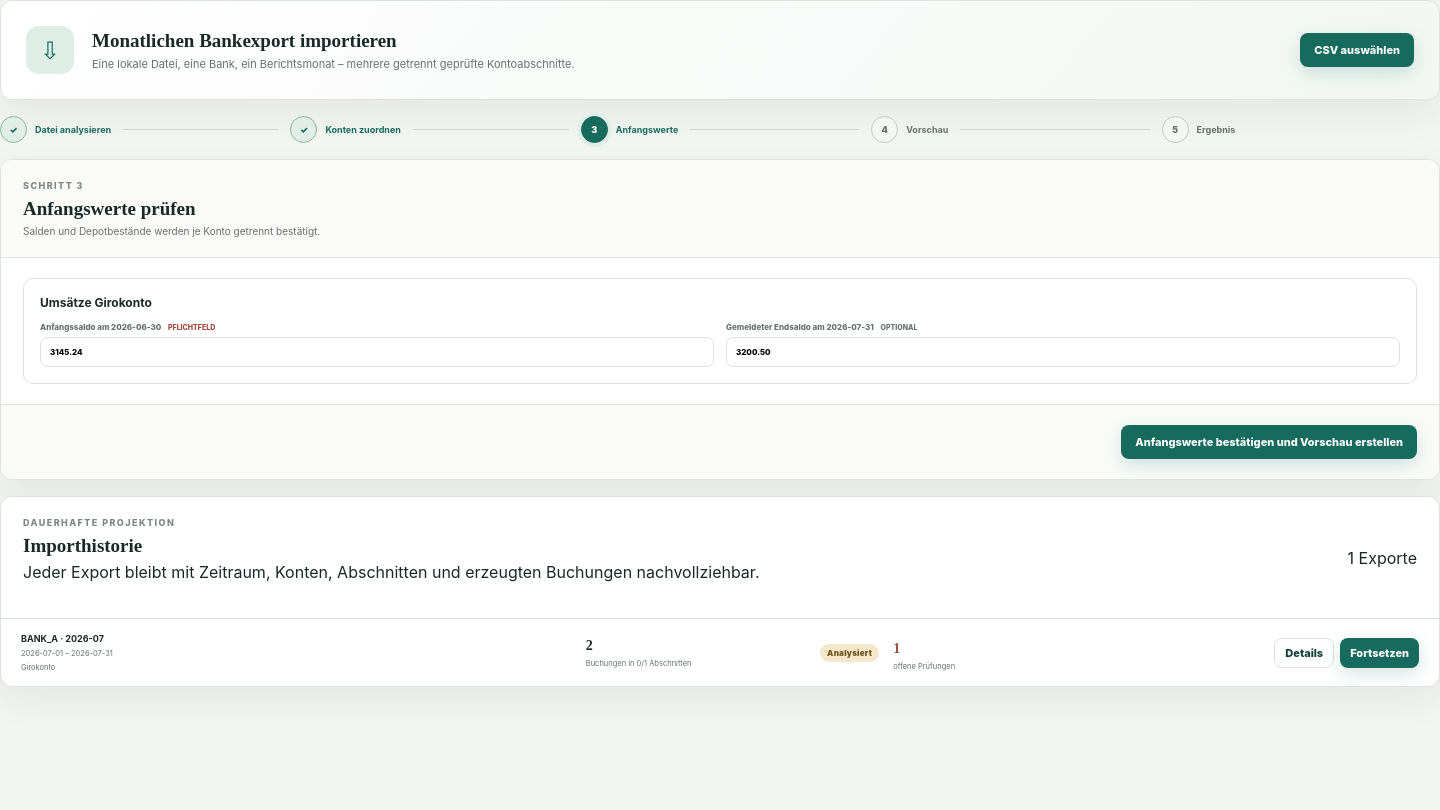
Scenario: Importassistent 1.2.0 › stellt gespeicherte Salden beim Fortsetzen wieder in den Feldern her
Expected: the field labelled "Anfangssaldo am 2026-06-30 Pflichtfeld" holds "3145.24", [40, 337, 714, 367]
Expected: the field labelled "Gemeldeter Endsaldo am 2026-07-31 optional" holds "3200.50", [726, 337, 1400, 367]
Click the button "Fortsetzen": (1380, 652) [1340, 638, 1419, 668]
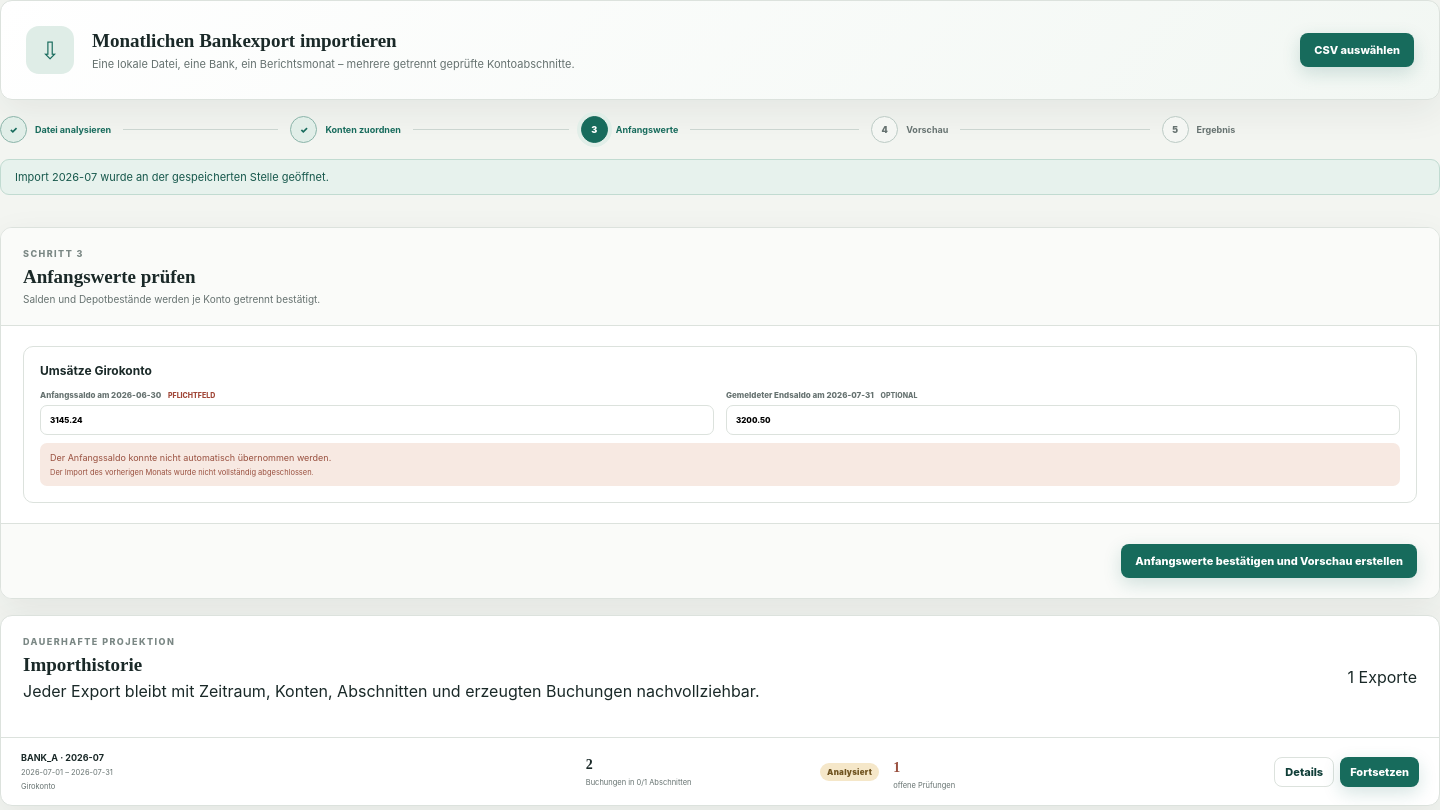
Expected: the field labelled "Anfangssaldo am 2026-06-30 Pflichtfeld" holds "3145.24", [40, 405, 714, 435]
Now the text "Import 2026-07 wurde an der gespeicherten Stelle geöffnet." is shown, box [15, 170, 329, 184]
